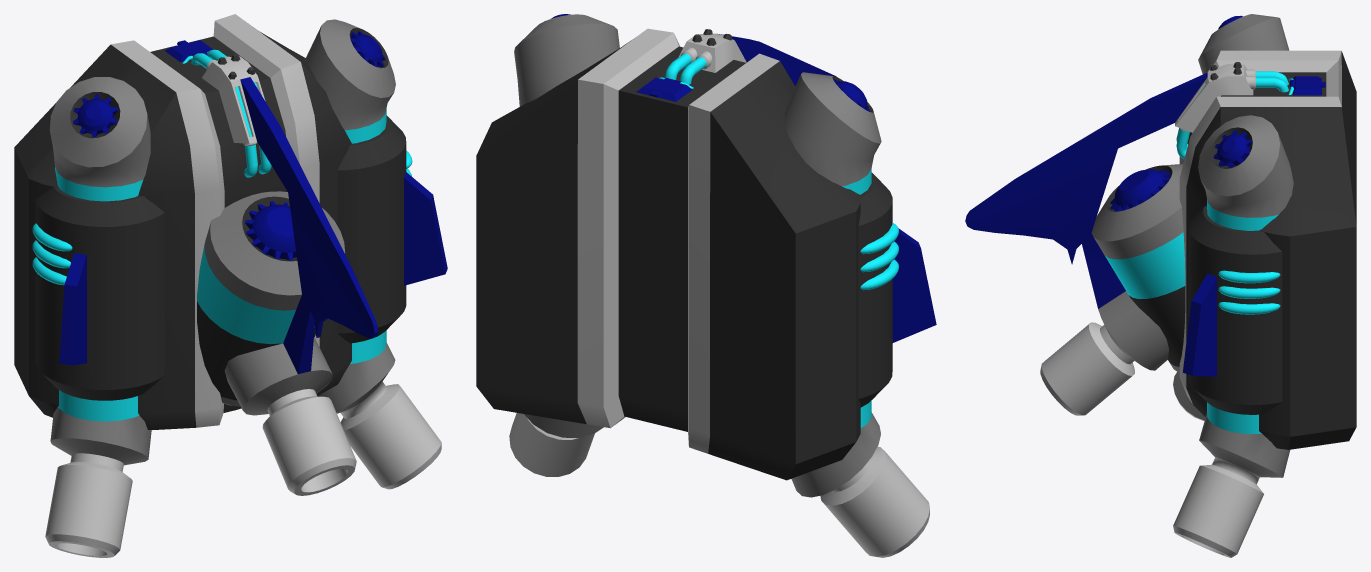
File: jetpack.fbx
3 views of the same model, side by side, from view 1: azimuth 30°, elevation 25°; view 2: azimuth 150°, elevation 25°; view 3: azimuth 270°, elevation 25° (orthographic). The views are drawn at different scales.
Visible parts, largest first — view 1: pTorus8; view 2: pTorus8; view 3: pTorus8.
Part boxes in pixels (x1,y1,x2,y2): pTorus8: (14, 14, 447, 557); pTorus8: (476, 14, 936, 557); pTorus8: (965, 14, 1356, 557).
Bounding box in the file's own units: 419 × 471 × 396.
